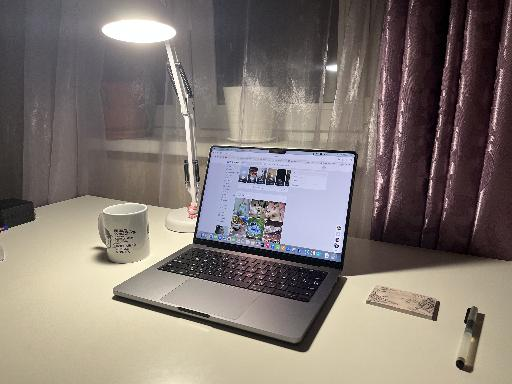vk: (210, 158, 350, 250)
